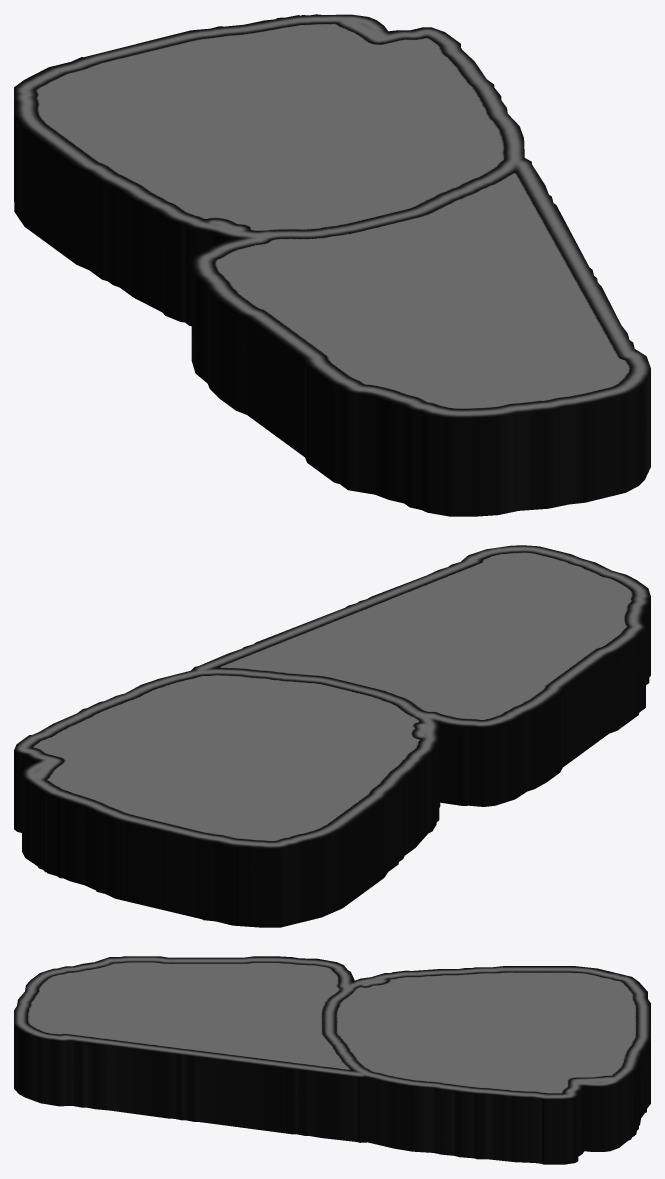
The model's file is tosche_station_terrain.glb.
3 renders of one model, top to bottom at view 1: azimuth 30°, elevation 25°; view 2: azimuth 150°, elevation 25°; view 3: azimuth 270°, elevation 25°, orthographic. The views are drawn at different scales.
Parts seen in each view (by area): view 1: mesh_id4; view 2: mesh_id4; view 3: mesh_id4.
Boxes of the visible parts, left/top/right/bottom form: mesh_id4: left=14, top=14, right=650, bottom=516; mesh_id4: left=14, top=545, right=650, bottom=927; mesh_id4: left=14, top=956, right=650, bottom=1164.
Bounding box in the file's own units: 0.512 × 0.1087 × 0.9624.
1 material, 1 textured.
